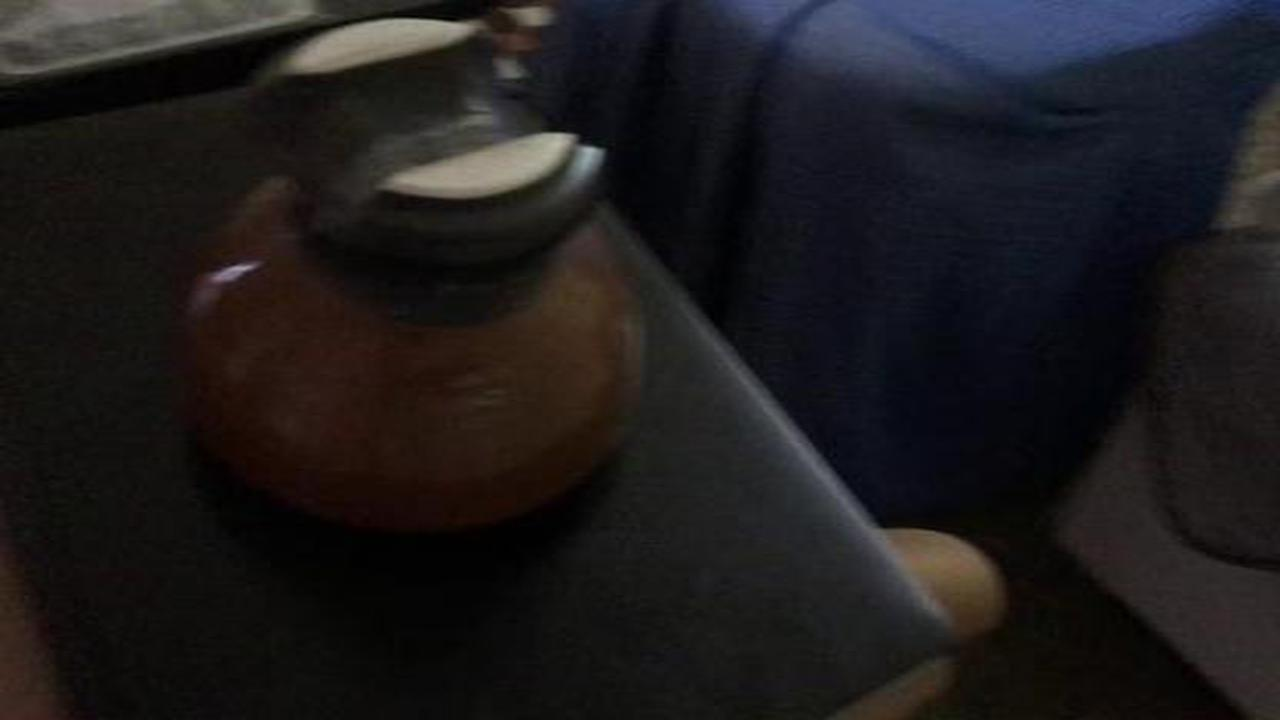insulator_pin: (151, 6, 659, 563)
